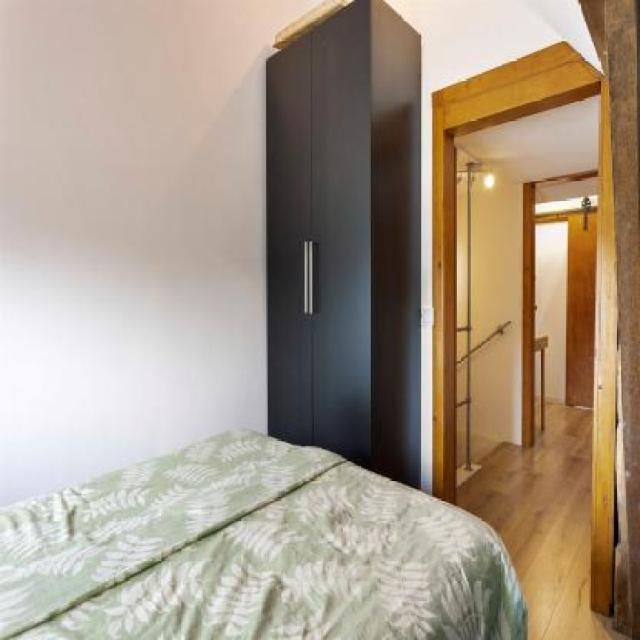floor: (453, 399, 640, 639)
